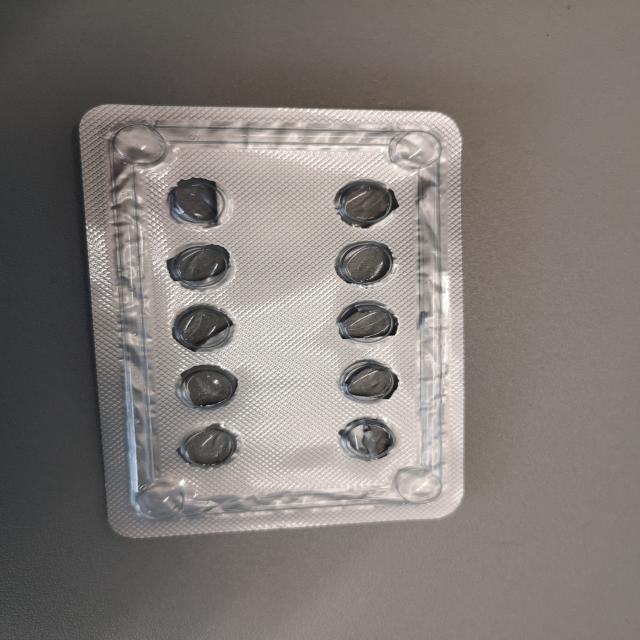Empty: (162, 175, 234, 229), (164, 242, 237, 293), (169, 303, 236, 354), (330, 178, 398, 228), (332, 239, 402, 287), (171, 365, 240, 410), (336, 416, 403, 462), (333, 301, 402, 345), (175, 423, 242, 468), (336, 359, 401, 404)
